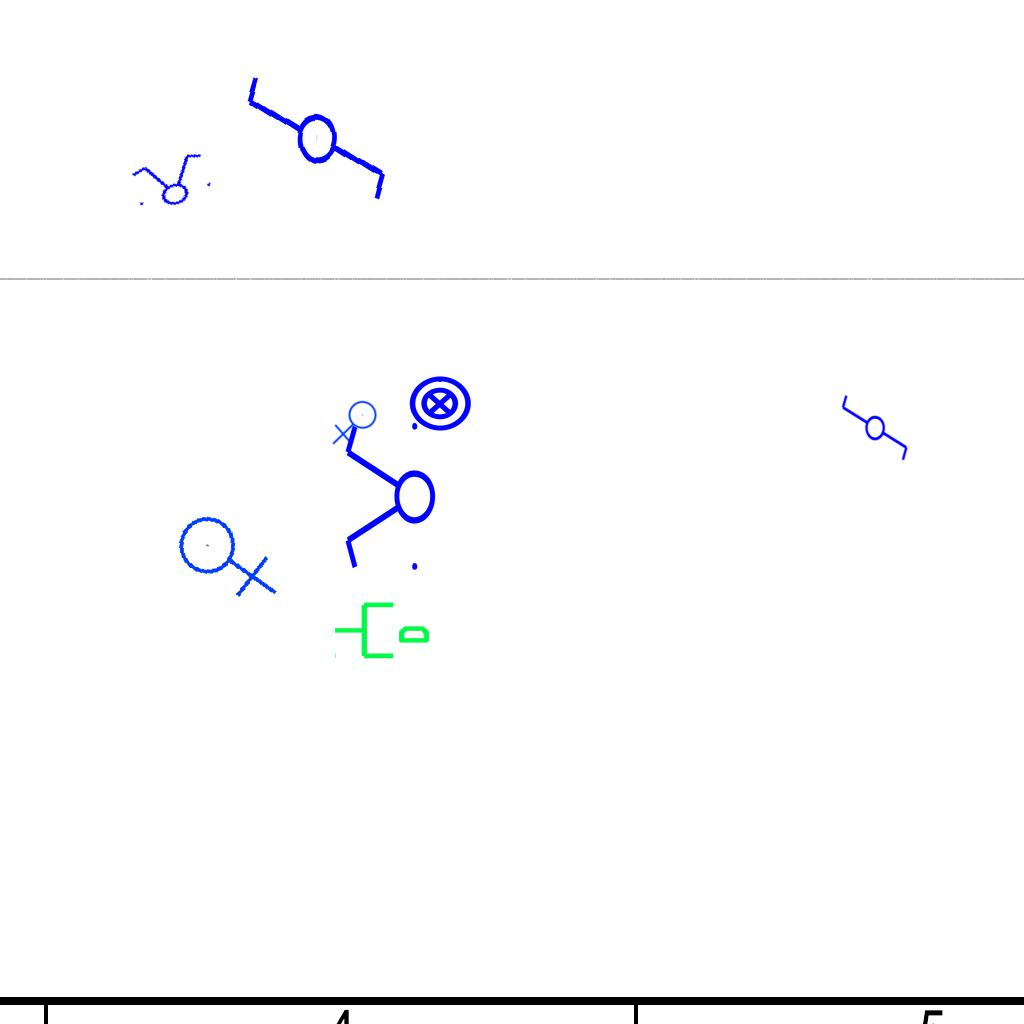Datenanschluss_einfach: (332, 594, 432, 663)
Elektroanschluss_allgemein_230V_Geraeteanschlussdose_230V: (170, 496, 283, 612), (332, 400, 381, 447)
Serienschalter: (341, 414, 437, 582), (124, 147, 218, 217)
Taster_beleuchtet: (407, 371, 473, 437)
Wechselschalter: (238, 63, 393, 231), (838, 393, 910, 471)
